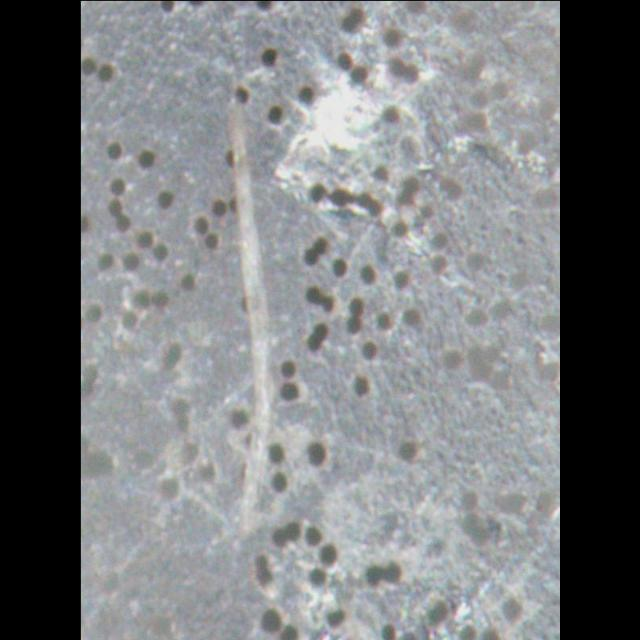Fibre: (225, 78, 272, 556)
